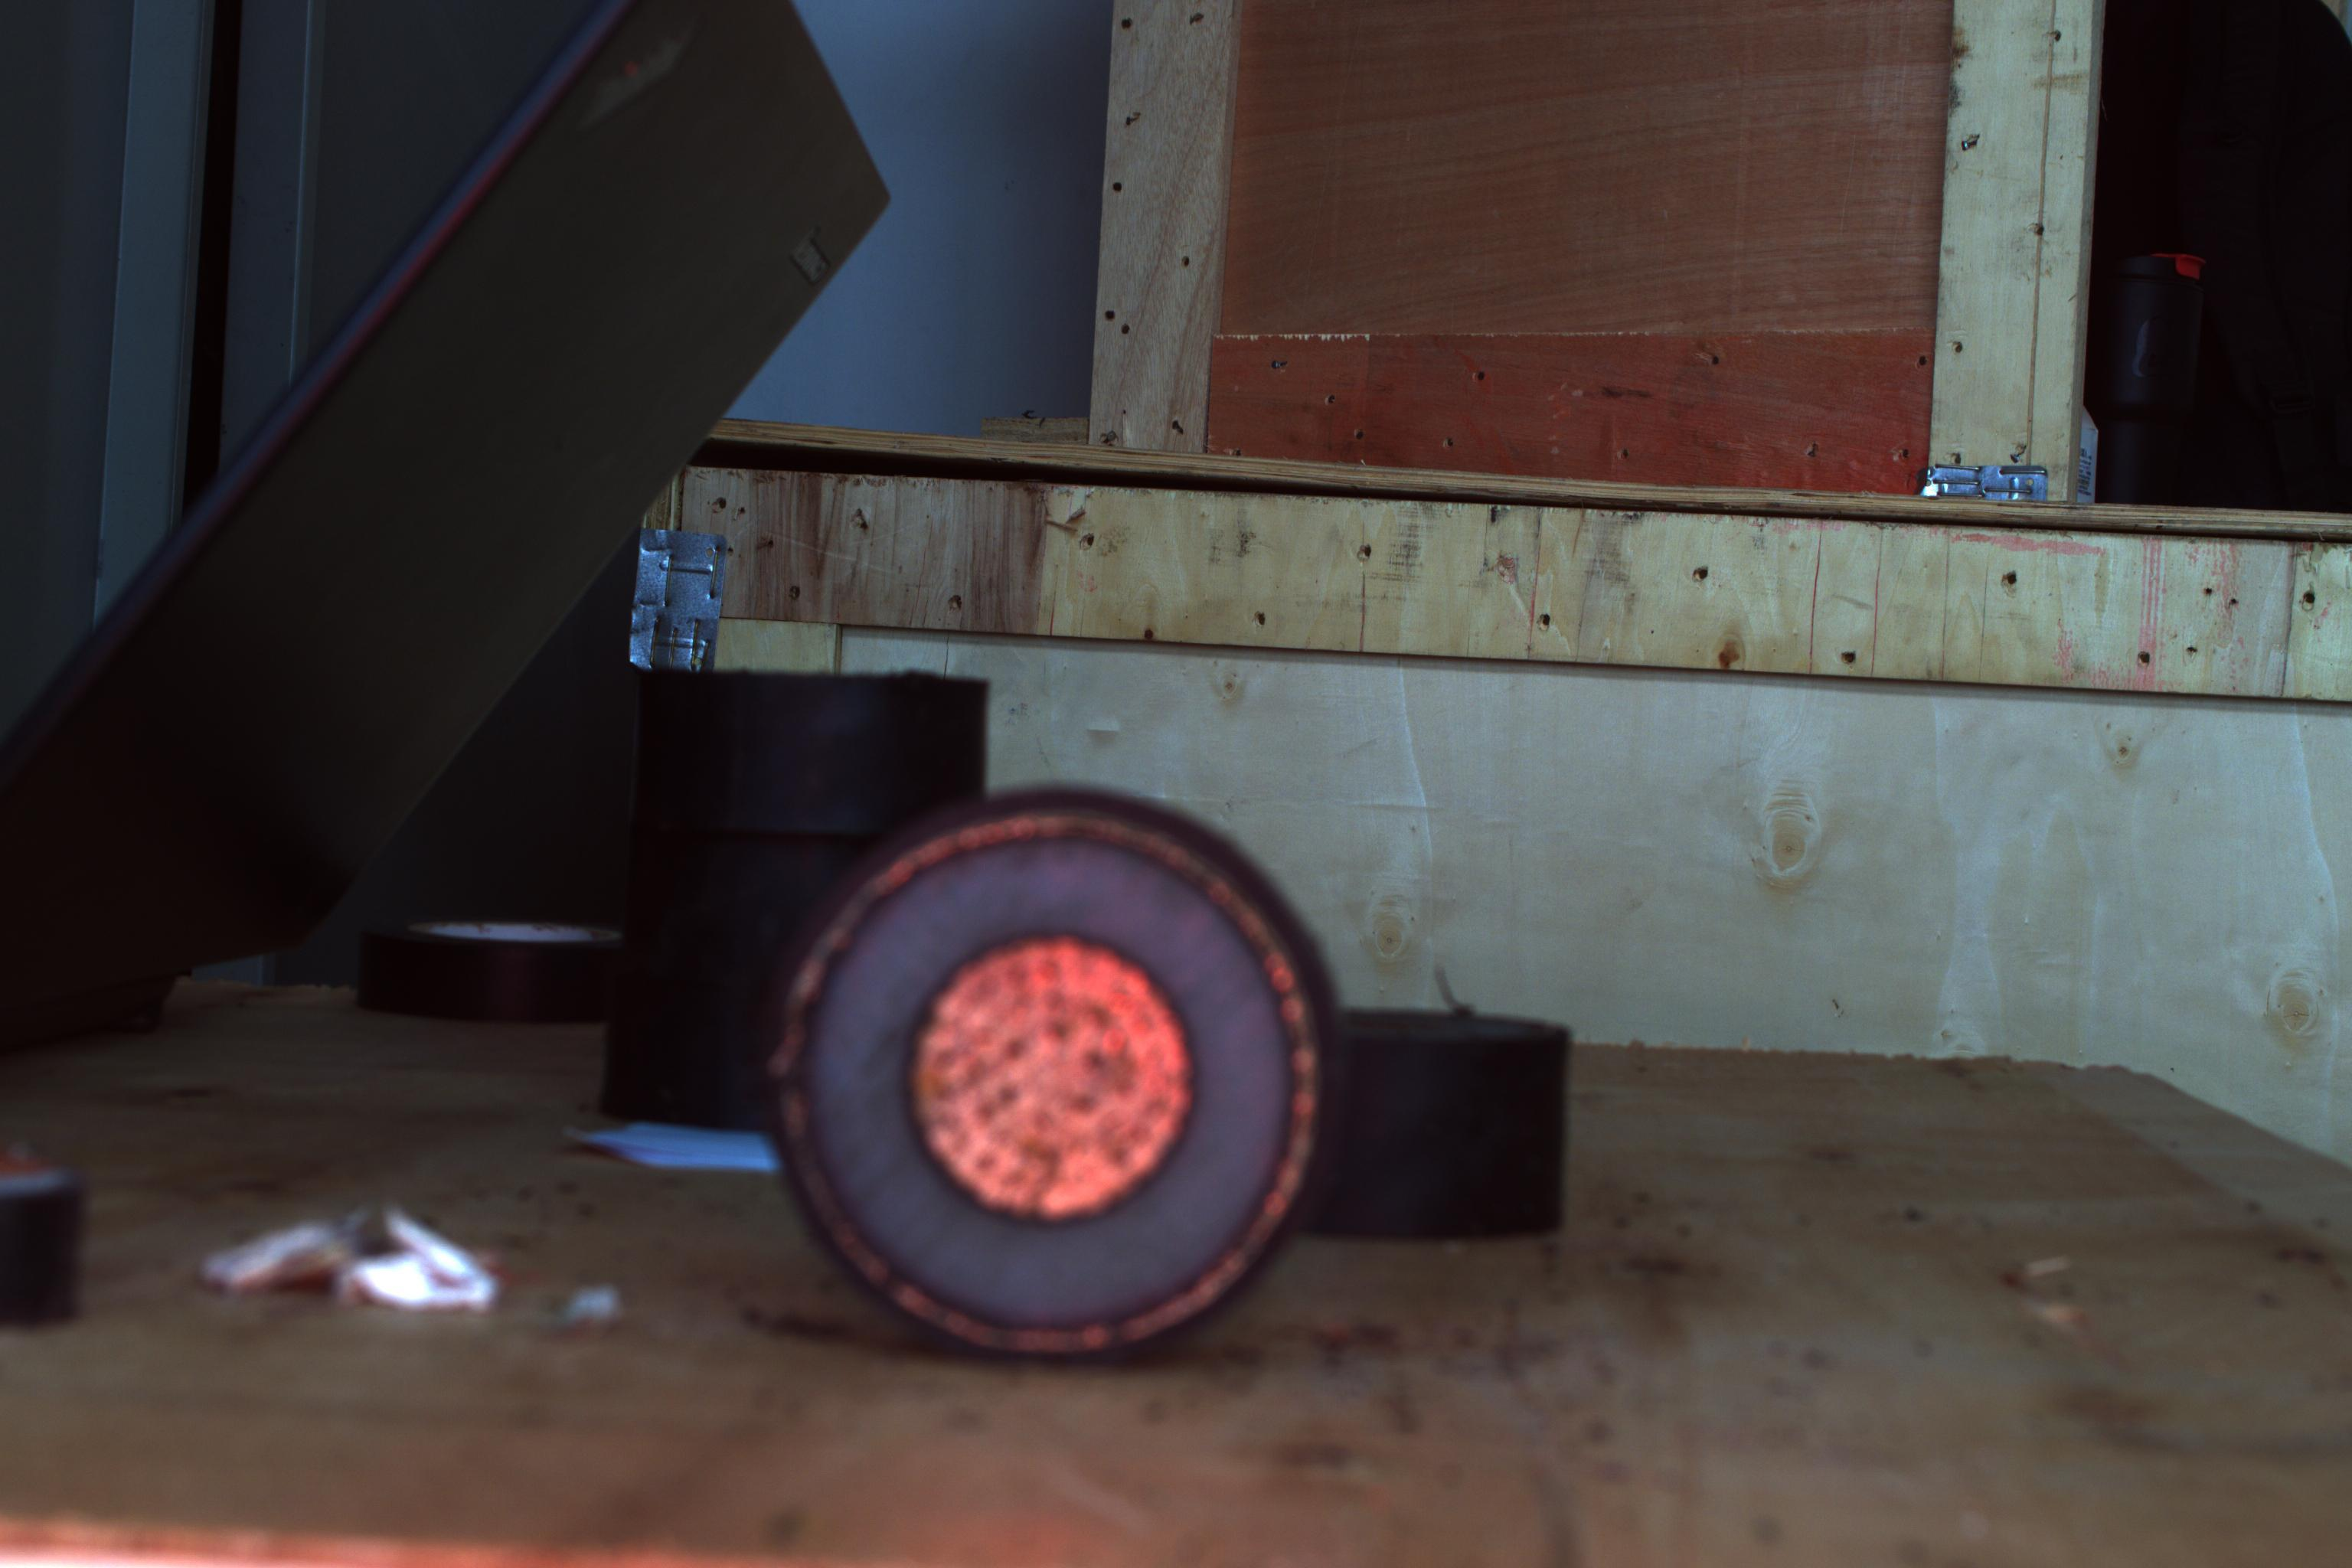YJV_26_35kV_1x630: (773, 807, 1323, 1354)
